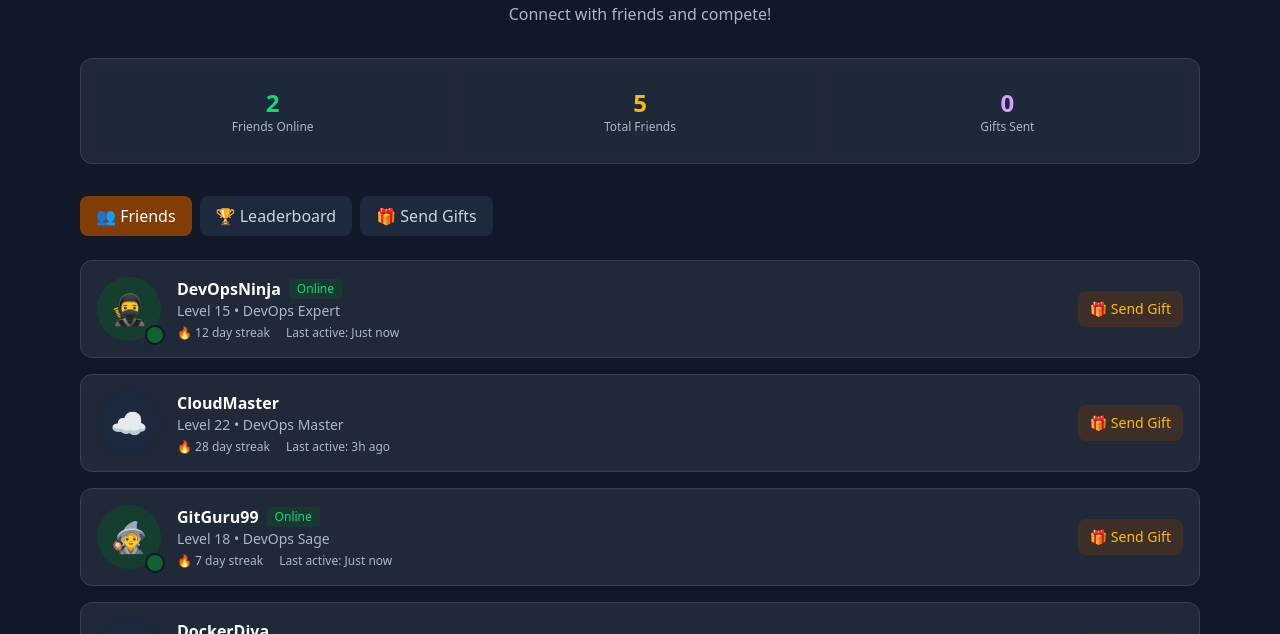
Test: SocialPage › picks a friend from the gifts tab and pre-fills their gift list
The image size is (1280, 634).
Click the button "🎁 Send Gifts" at (426, 216), box 360,196 -> 493,236
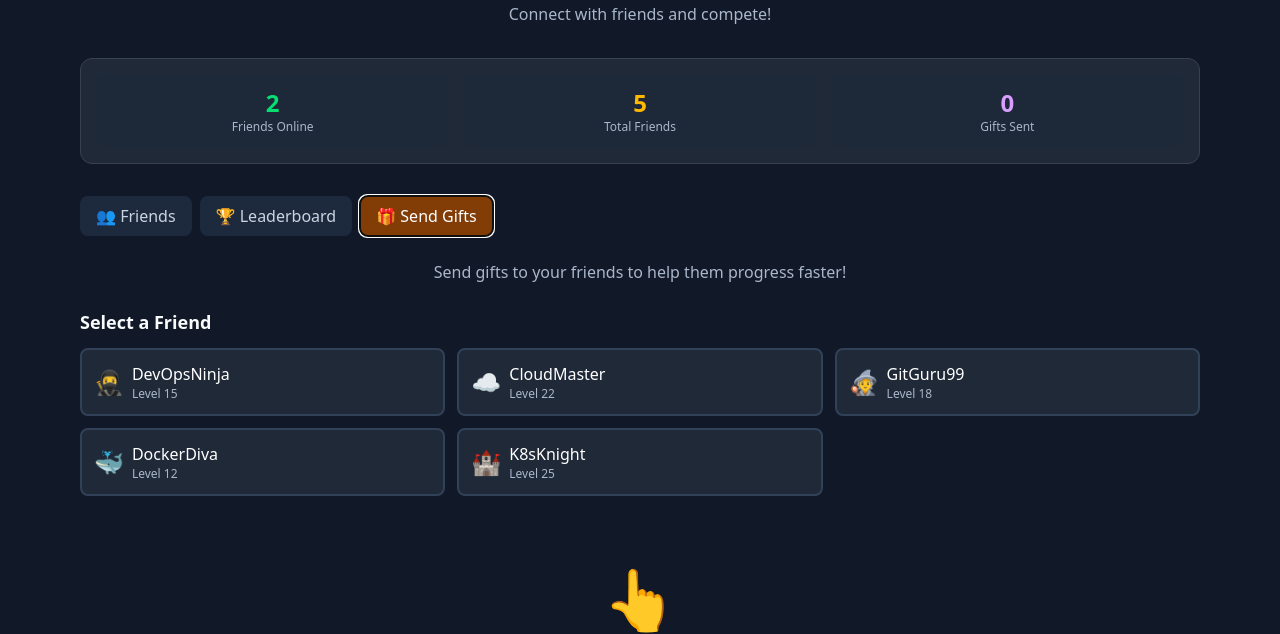
Click the button "🥷 DevOpsNinja Level 15" at (181, 374), box 80,348 -> 445,416
(page scrolled)
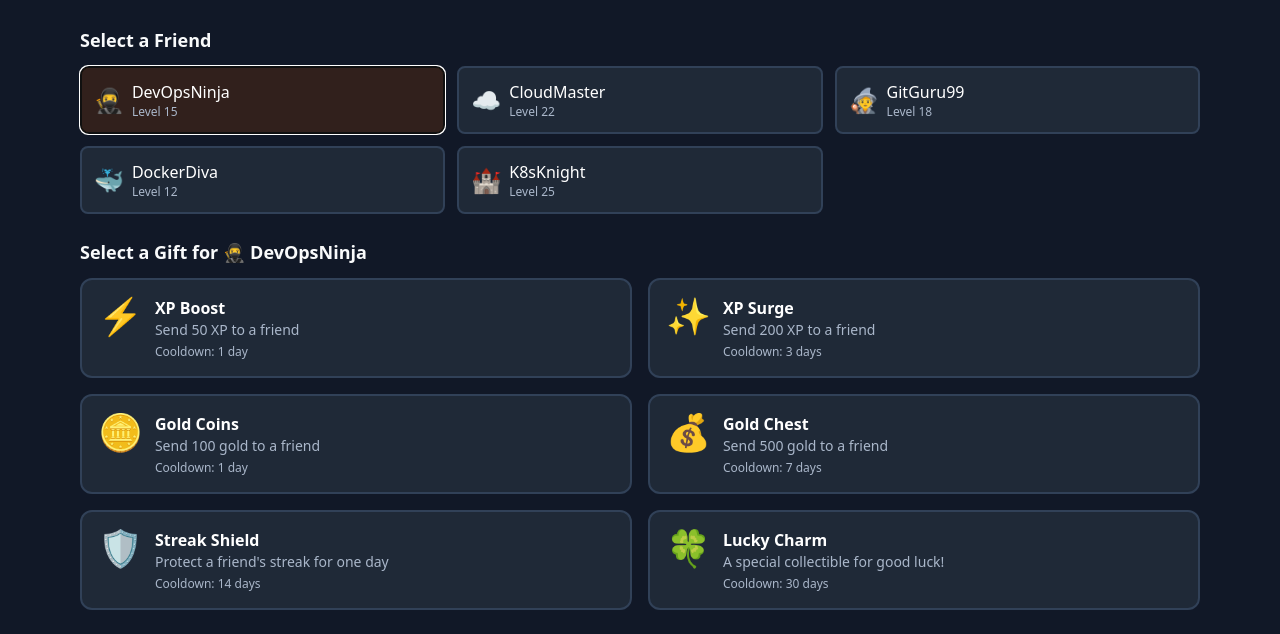
Now the button "⚡ XP Boost Send 50 XP to a friend Cooldown: 1 day" is enabled, box 80,278 -> 632,378
Now the button "✨ XP Surge Send 200 XP to a friend Cooldown: 3 days" is enabled, box 648,278 -> 1200,378
Now the button "🪙 Gold Coins Send 100 gold to a friend Cooldown: 1 day" is enabled, box 80,394 -> 632,494
